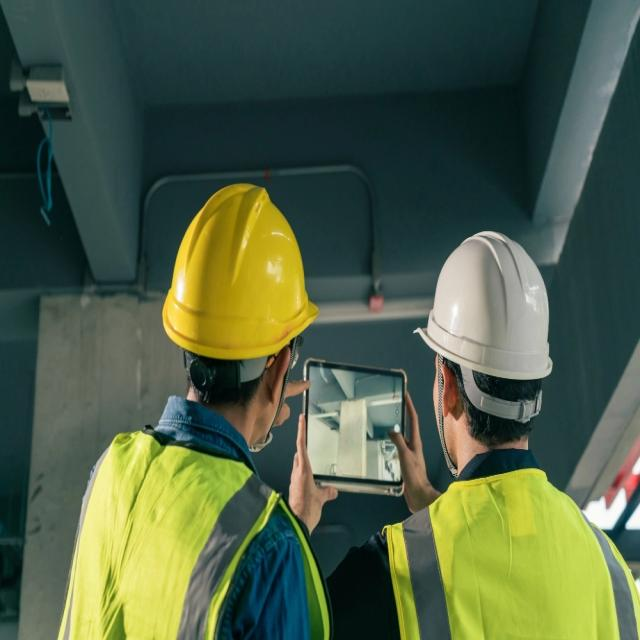helmet: (156, 159, 330, 380), (413, 230, 566, 404)
vest: (28, 398, 336, 640), (383, 486, 640, 640)
